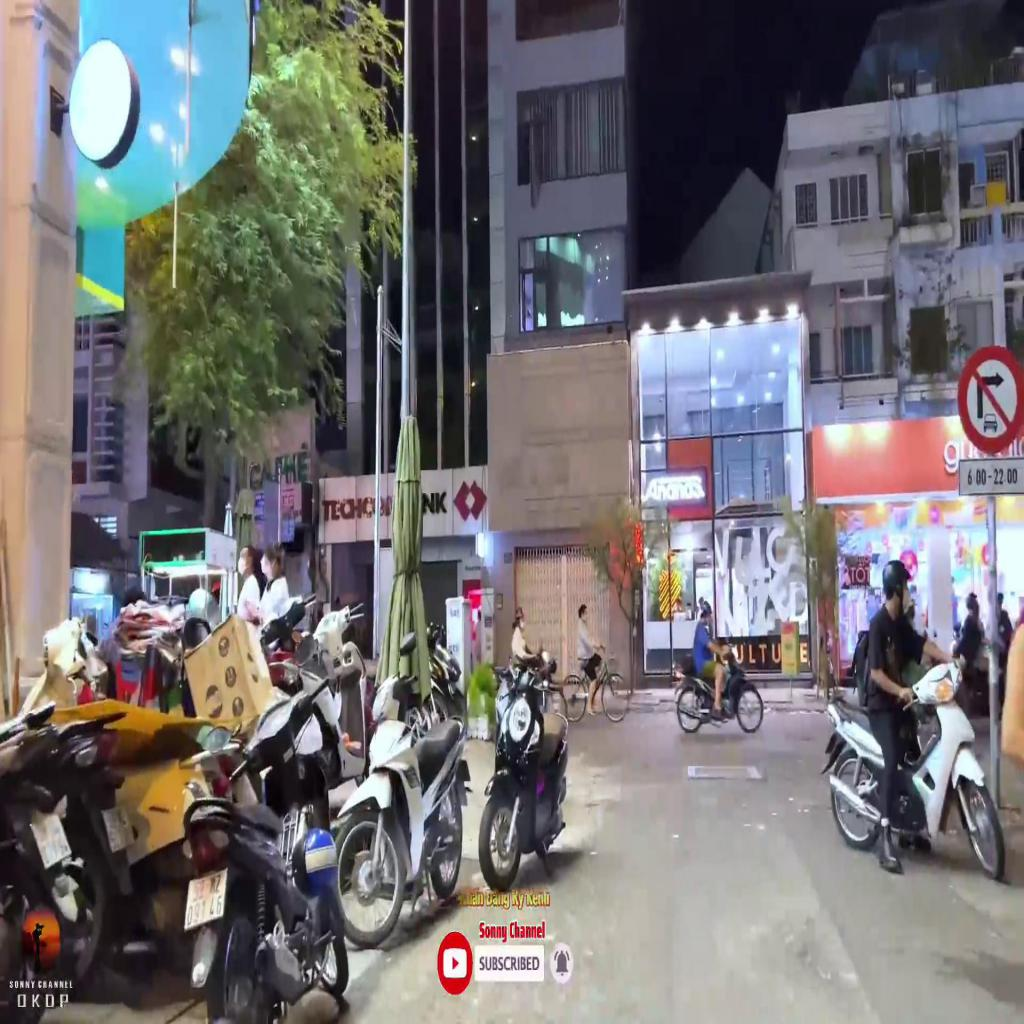cam_o_to_re_phai: (957, 345, 1023, 452)
khac: (959, 458, 1023, 494)
